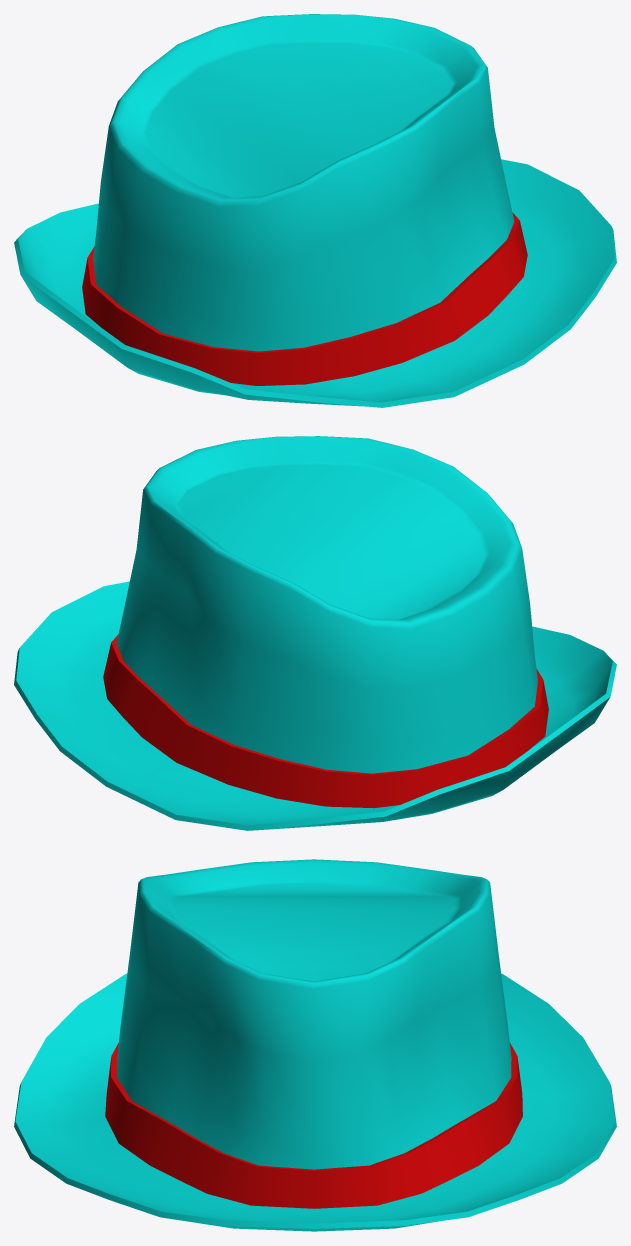
The model's file is hat1.fbx.
The picture shows the model from 3 angles, top to bottom: view 1: azimuth 30°, elevation 25°; view 2: azimuth 150°, elevation 25°; view 3: azimuth 270°, elevation 25°; orthographic projection. The views are drawn at different scales.
Visible parts, largest first — view 1: Cylinder.001; view 2: Cylinder.001; view 3: Cylinder.001.
Part boxes in pixels (x1=…): Cylinder.001: x1=14, y1=14, x2=616, y2=407; Cylinder.001: x1=14, y1=436, x2=616, y2=830; Cylinder.001: x1=14, y1=859, x2=616, y2=1231.
Size of the model in its own units: 231 by 96.6 by 218.
